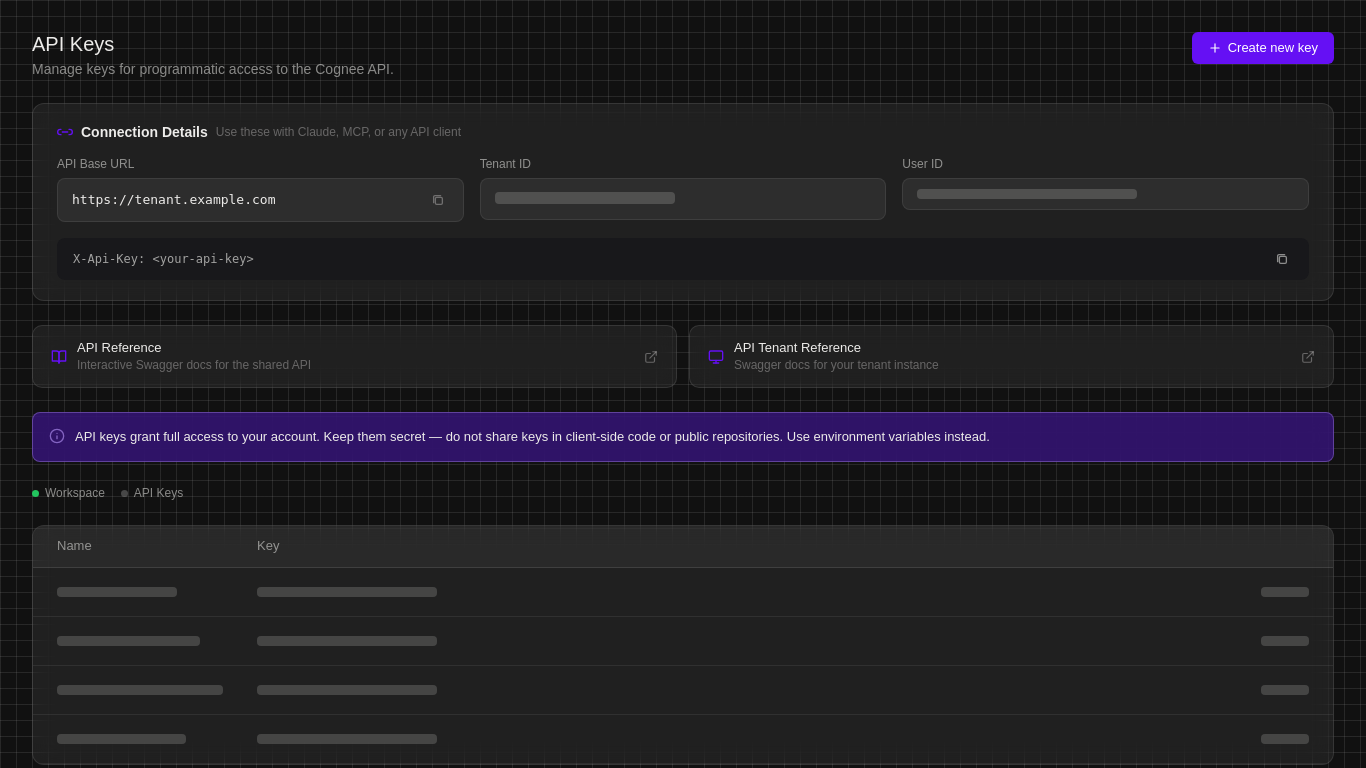
Test: ApiKeysPage create-key failure › shows a persistent error when the request throws (e.g. a client-side timeout)
Click the button with test id "api-key-create-open" at (1263, 48), box [1192,32,1334,64]
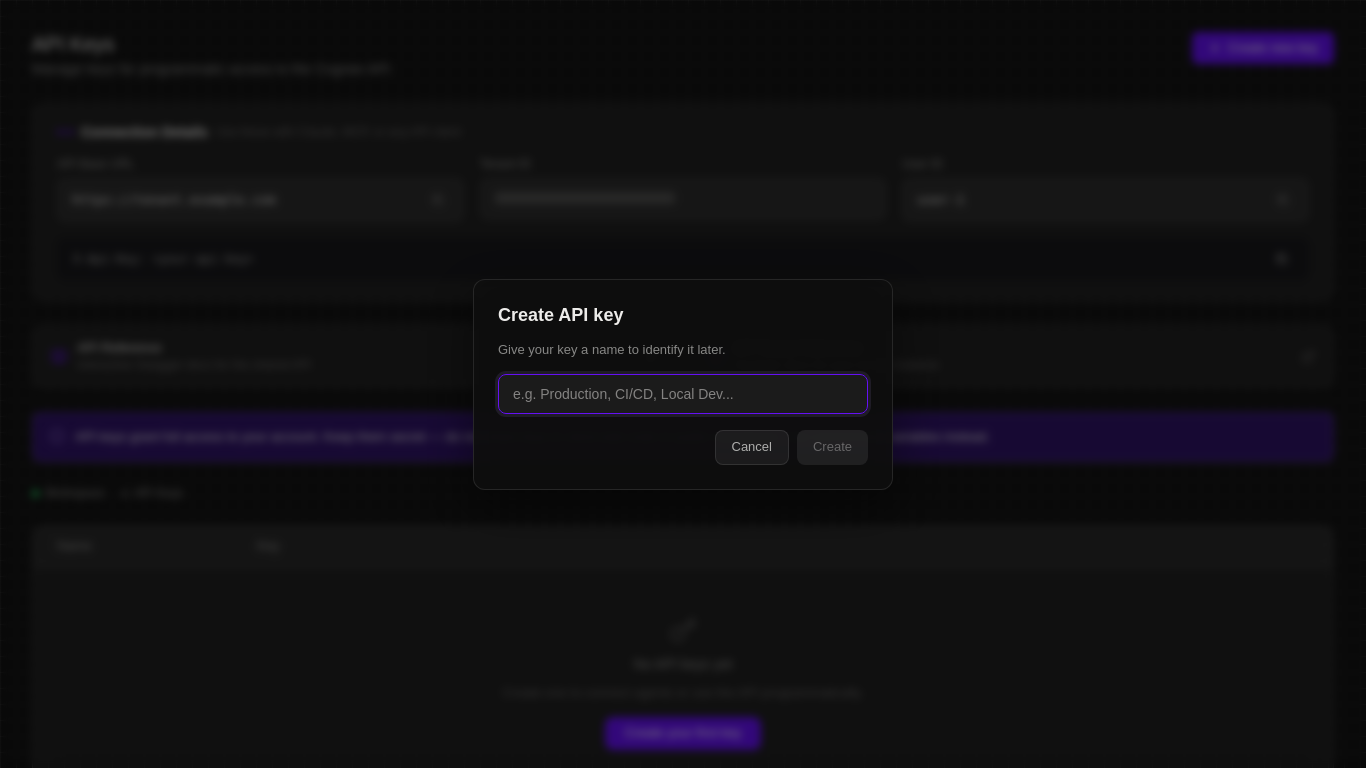
Type "ci-key" into the field with test id "api-key-name-input" at (683, 394), box [498,374,868,414]
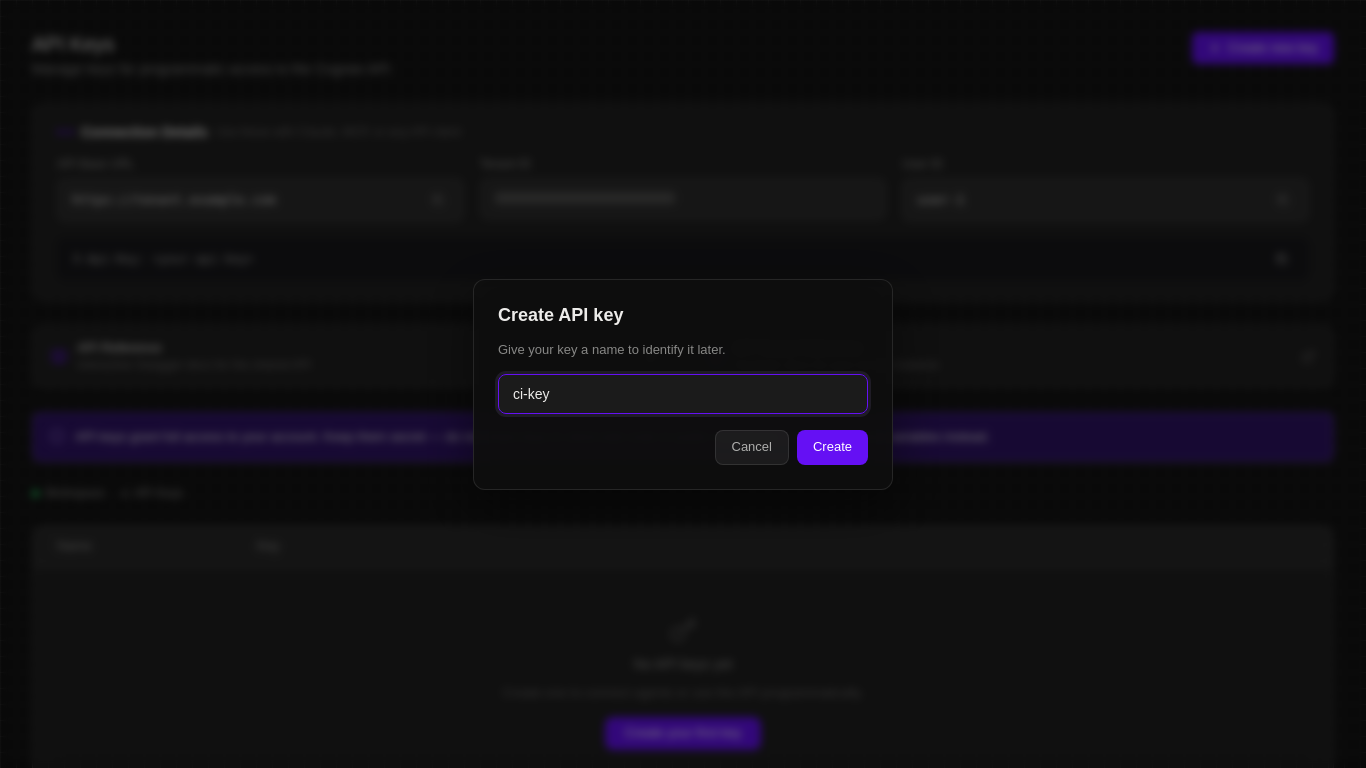
Click the button with test id "api-key-create-submit" at (832, 447), box [797,430,868,465]
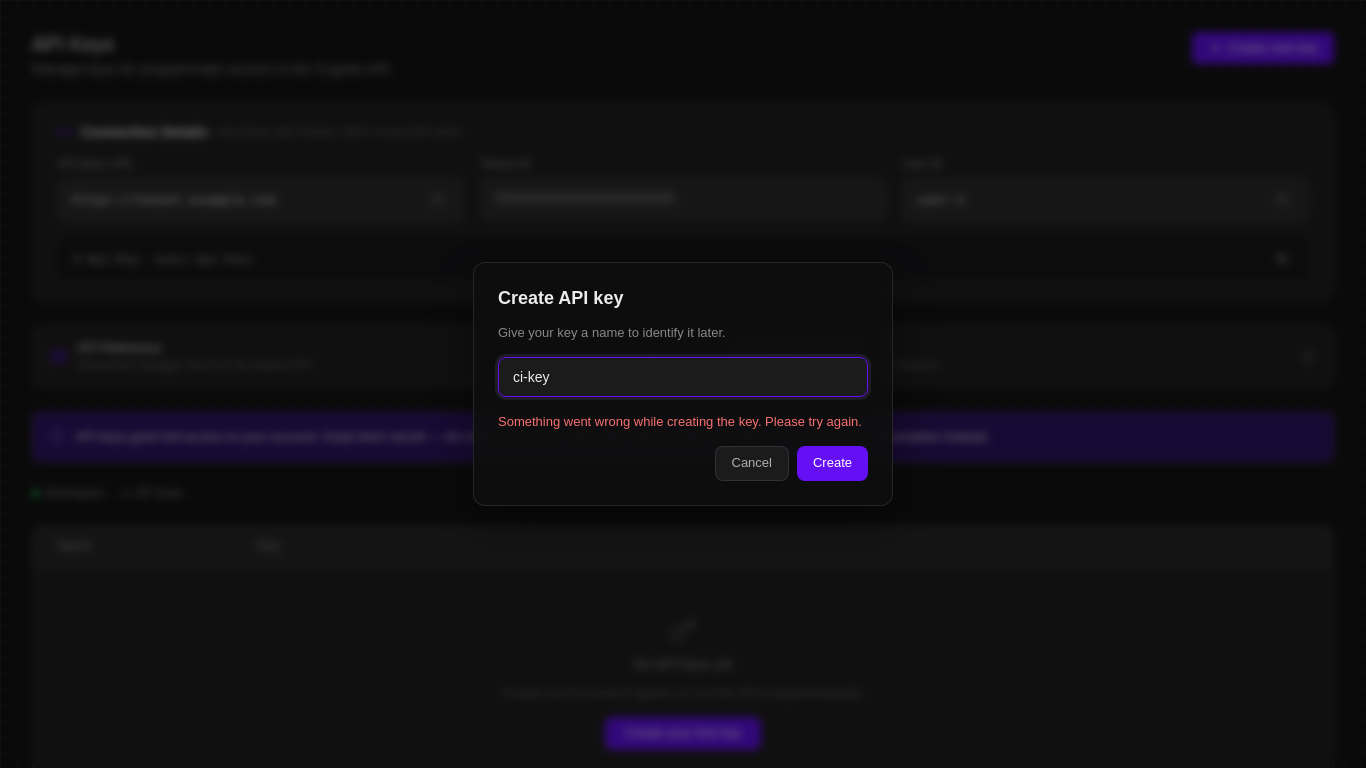
expect the text with test id "api-key-create-error" reads "Something went wrong while creating the key. Please try again.": met, box [498,414,862,429]
